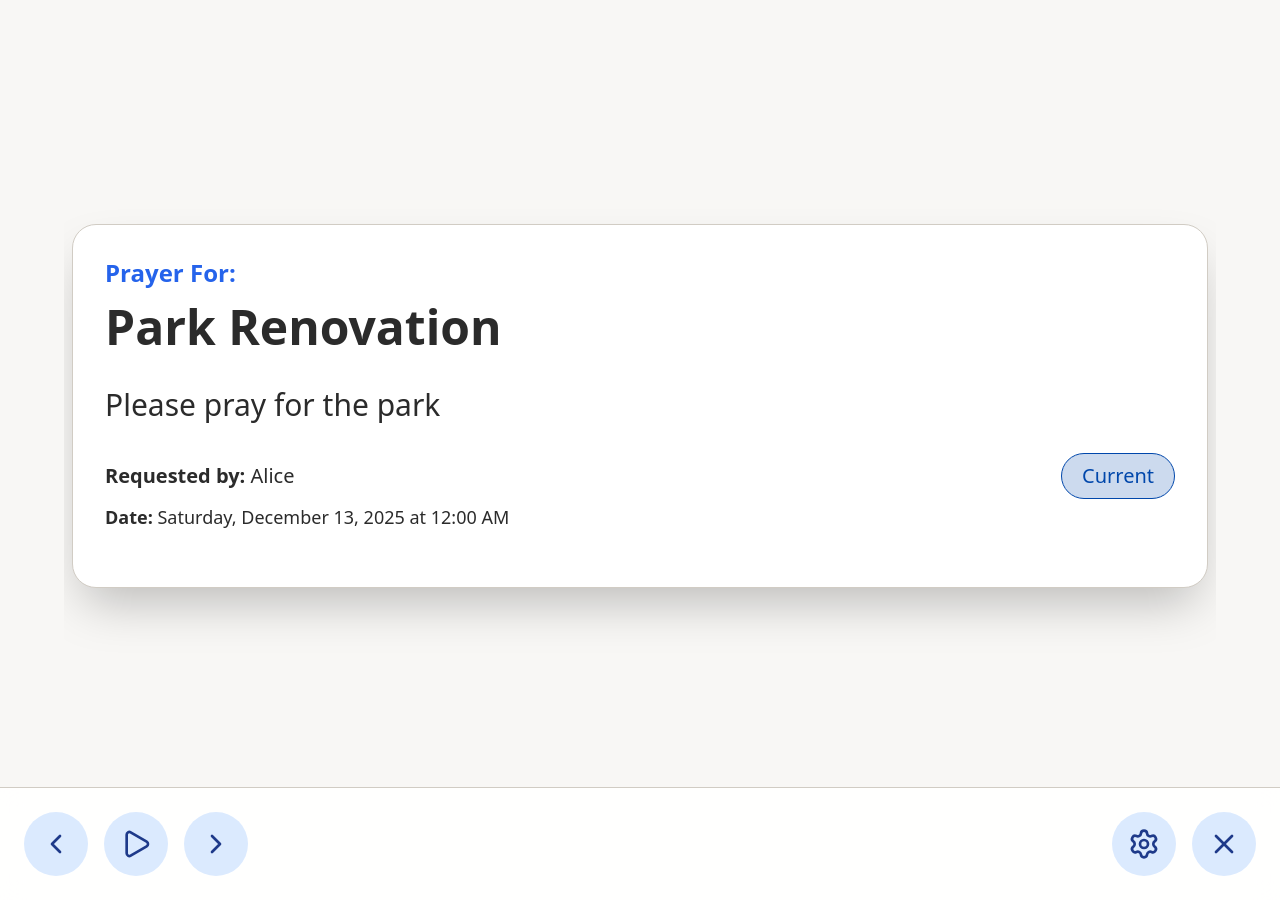
Scenario: PrayerPresentation › Navigation › renders a prayer and allows navigation and opening settings
Check: the text "Park Renovation" is shown, box [105, 294, 502, 359]
Settings button toggles the settings panel
Click the button titled "Settings": (1144, 844) [1112, 812, 1176, 876]
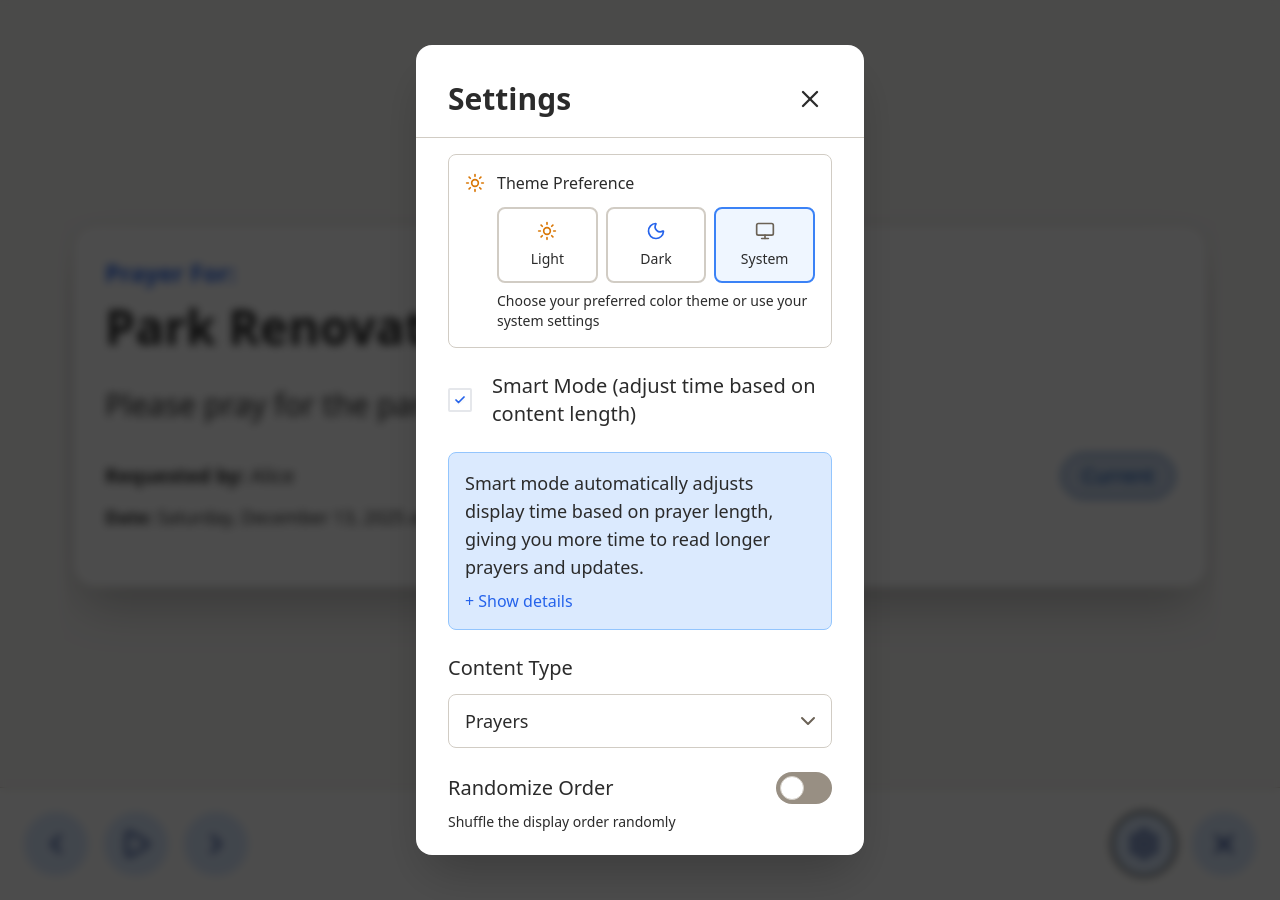
Check: the heading "Settings" is shown, box [448, 81, 571, 117]
Close settings: find the close button next to the Settings heading to avoid matching other buttons
Click the 1st button: (810, 99) [788, 77, 832, 121]
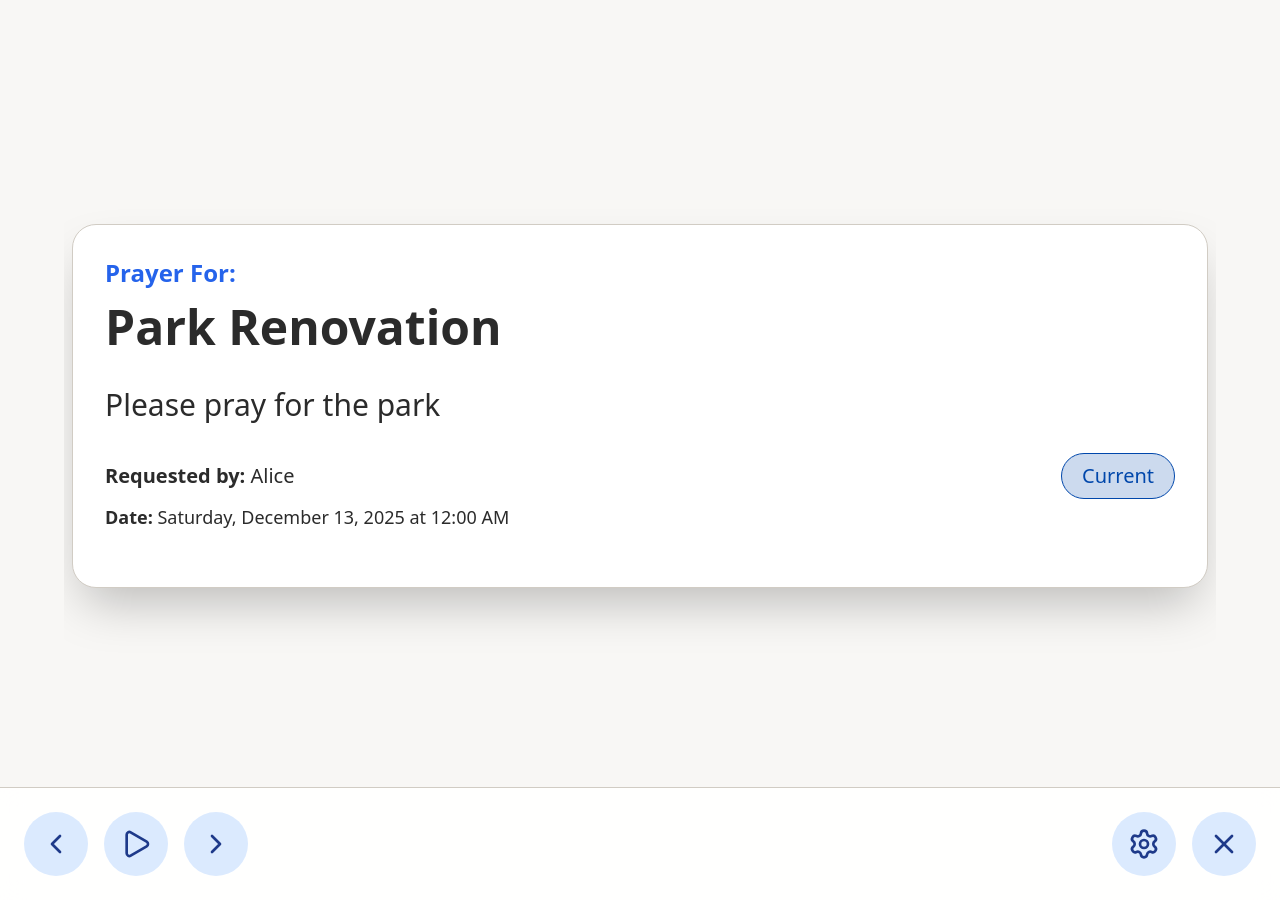
Navigate to next prayer
Click the button titled "Next Prayer": (216, 844) [184, 812, 248, 876]
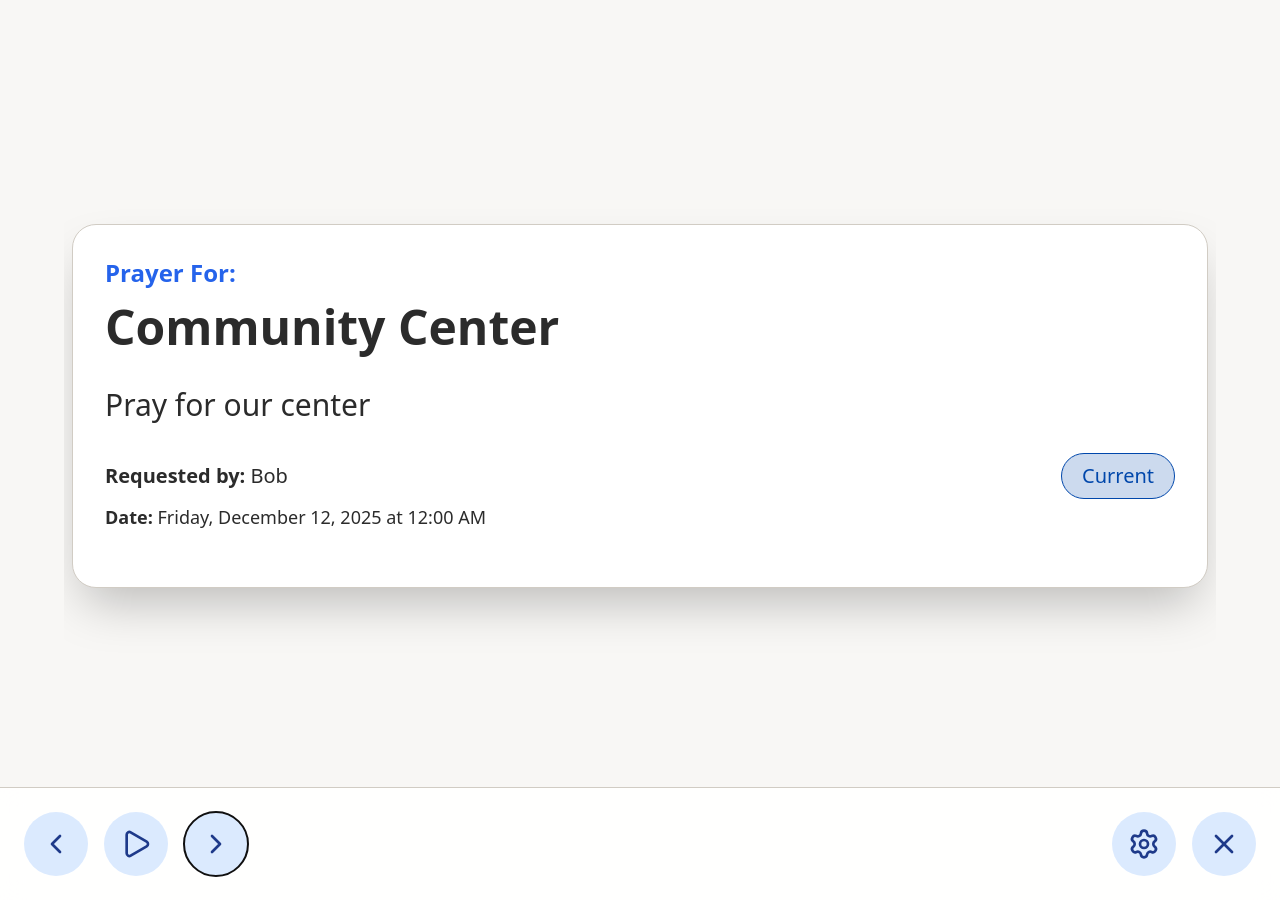
Check: the text "Community Center" is shown, box [105, 294, 559, 359]
